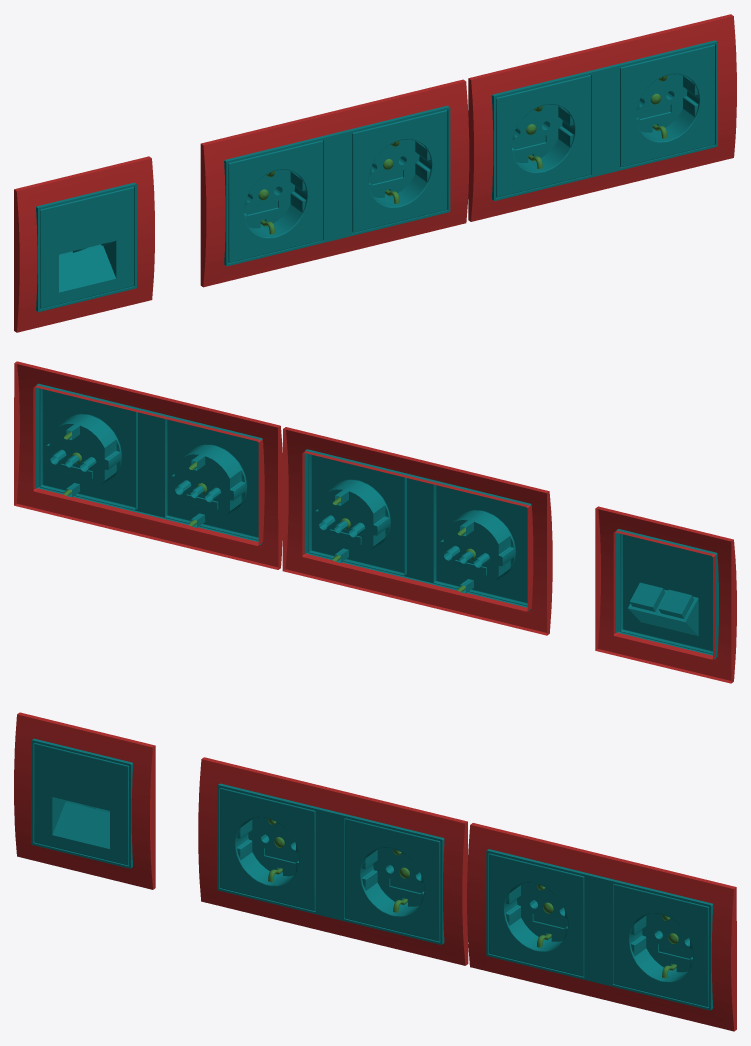
The model's file is SM_Socket_032.fbx.
3 views of the same model, one above another, from view 1: azimuth 30°, elevation 25°; view 2: azimuth 150°, elevation 25°; view 3: azimuth 330°, elevation 25° (orthographic).
Parts seen in each view (by area): view 1: SM_Socket_032; view 2: SM_Socket_032; view 3: SM_Socket_032.
Boxes of the visible parts, left/top/right/bottom form: SM_Socket_032: left=14, top=14, right=736, bottom=332; SM_Socket_032: left=14, top=361, right=736, bottom=683; SM_Socket_032: left=14, top=712, right=736, bottom=1031.
Size of the model in its own units: 44.12 by 8.45 by 2.51.
